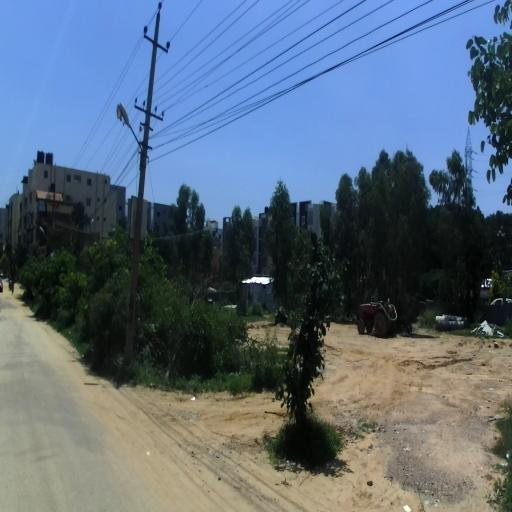street_light_0: (117, 103, 149, 171), (39, 226, 51, 244)
